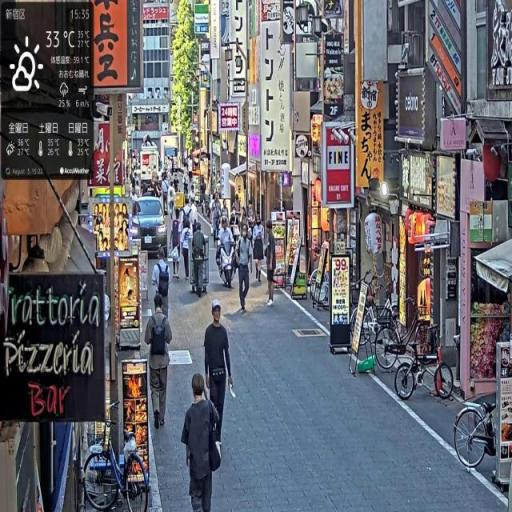person: (182, 373, 224, 512), (204, 301, 236, 450), (144, 294, 175, 431), (235, 224, 253, 316), (152, 248, 172, 320), (191, 220, 209, 298), (263, 220, 278, 309), (218, 217, 235, 289), (253, 215, 267, 284), (181, 220, 194, 284)
